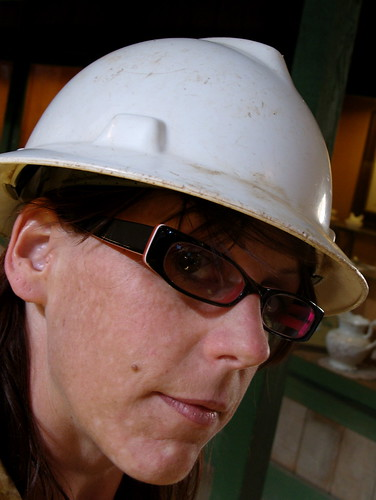person hardhat: (1, 35, 367, 500)
